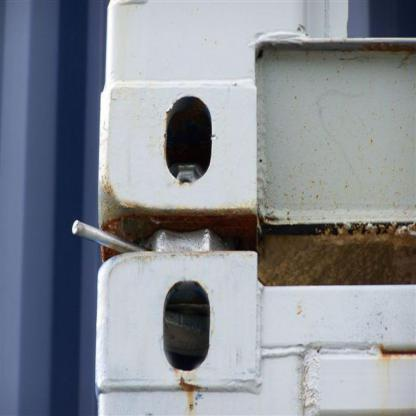CornerCasting: (95, 74, 262, 243), (89, 248, 272, 393)
